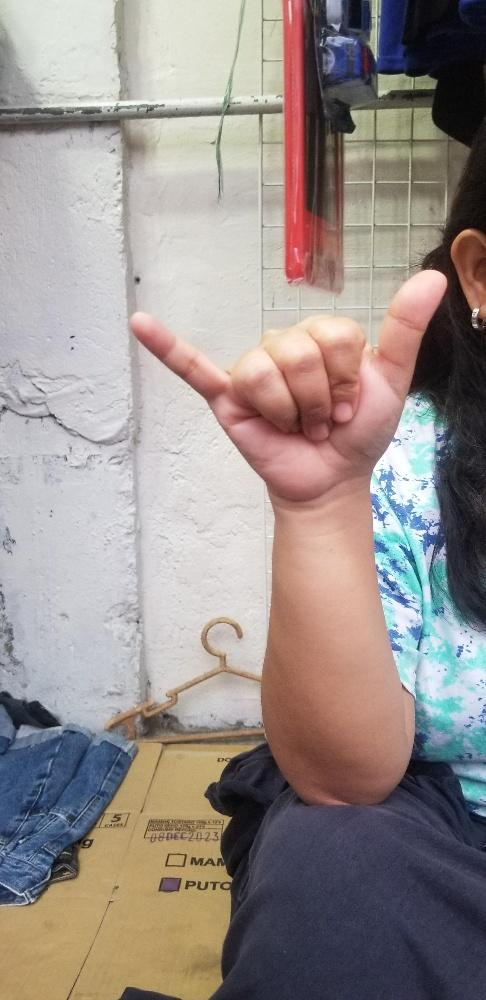y: (129, 266, 447, 501)
